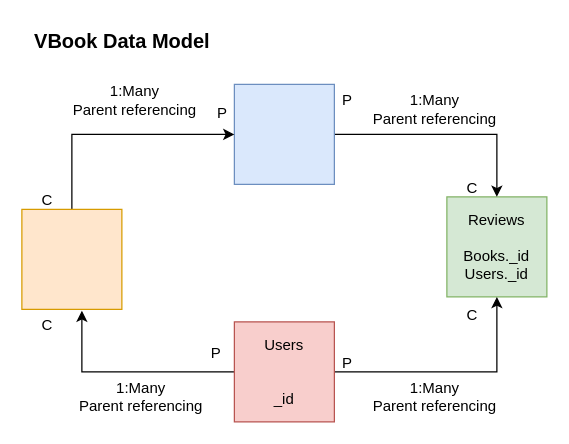
This 569x444 diagram has some shape labels left out. Each missing label, with the box of its shape:
Books _id: (233, 83, 334, 184)
Cart list Books._id Users._id: (21, 208, 122, 309)
